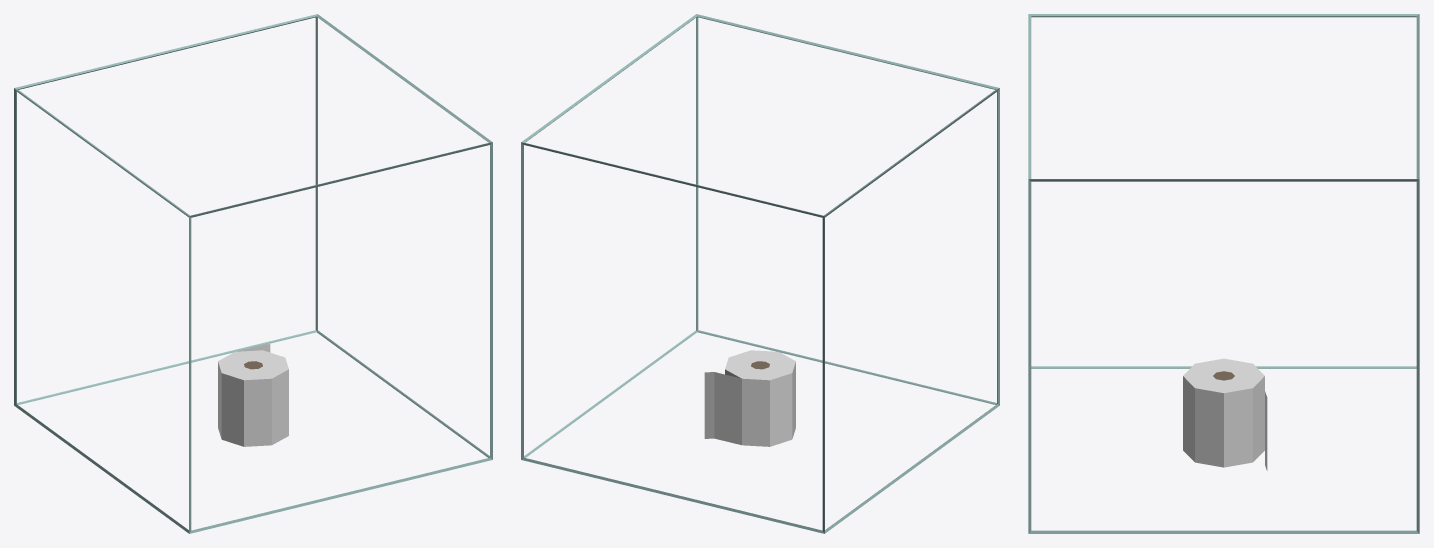
The model's file is toilet_roll.fbx.
3 renders of one model, left to right at view 1: azimuth 30°, elevation 25°; view 2: azimuth 150°, elevation 25°; view 3: azimuth 270°, elevation 25°, orthographic. The views are drawn at different scales.
Visible parts, largest first — view 1: Cube, Cylinder; view 2: Cube, Cylinder; view 3: Cube, Cylinder.
Part boxes in pixels (x1,y1,x2,y2): Cube: (14, 14, 492, 533); Cylinder: (218, 344, 288, 446); Cube: (521, 14, 999, 533); Cylinder: (704, 350, 795, 446); Cube: (1028, 14, 1419, 533); Cylinder: (1183, 358, 1267, 470).
Bounding box in the file's own units: 953 × 956 × 953.
